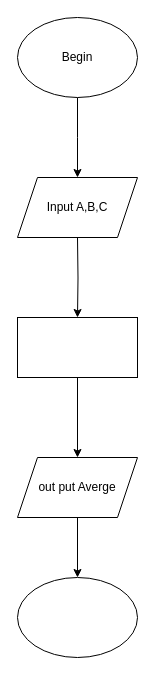
The diagram is 155 pixels wide and 675 high, and some of its shapes have lost their labels. The centre of each missing label's shape, as x and y in pixels:
Averge=(A+B+c)/3: the point at 77,347
end: the point at 77,617
